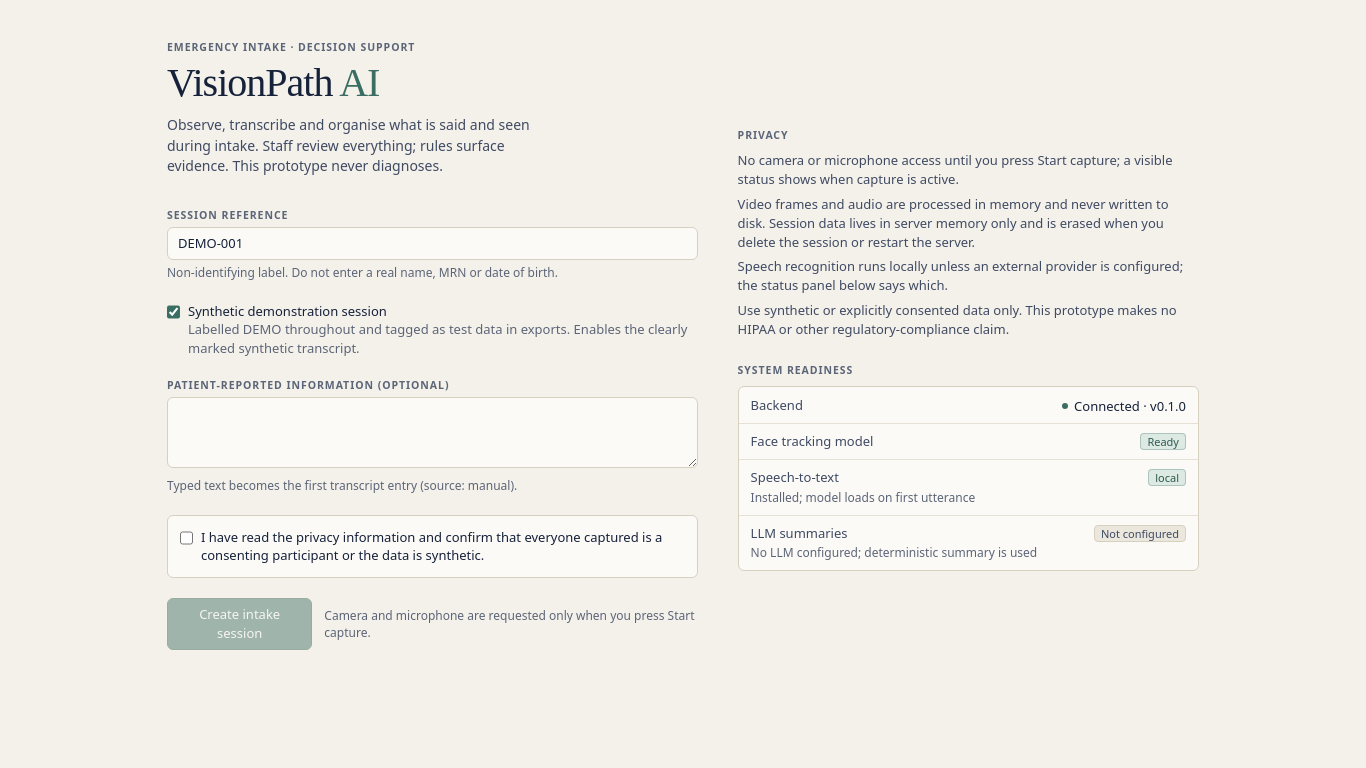
initial rendering & setup › surfaces server validation errors on creation
The width and height of the screenshot is (1366, 768).
Expected: the text "Connected · v0.1.0" is shown, [1062,397,1186,415]
Click the checkbox labelled "I have read the privacy information".
click(186, 538)  # box [180,530,193,546]
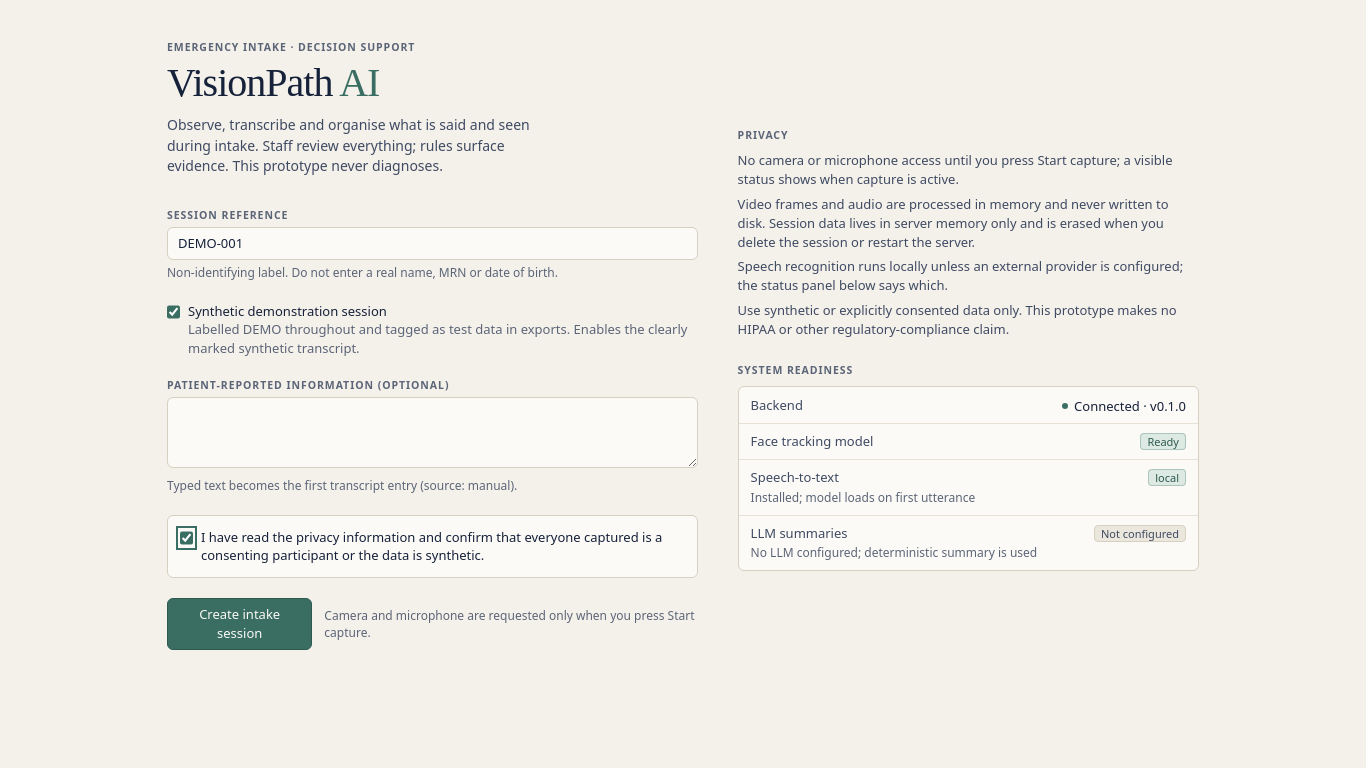
Click the button "Create intake session".
click(240, 624)  # box [167,598,312,650]
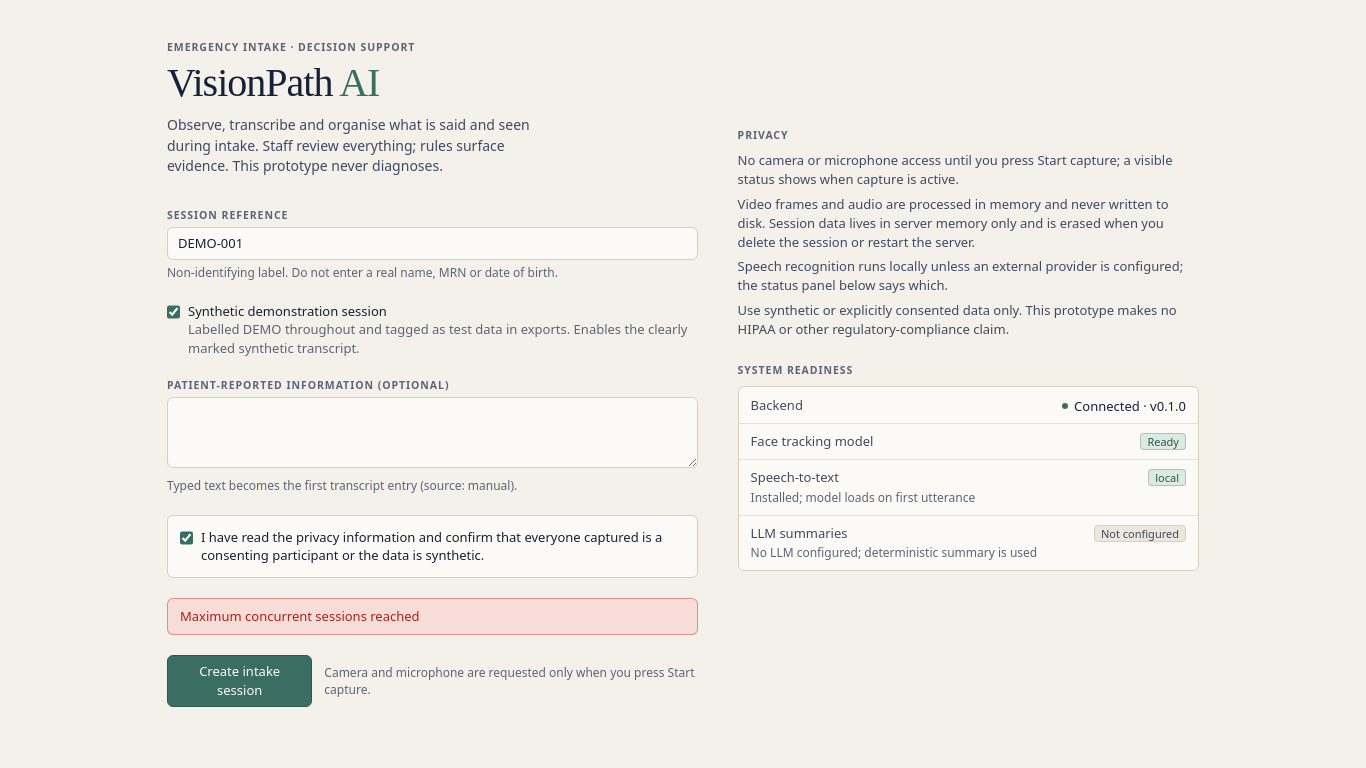
Now the message shows "Maximum concurrent sessions", box [180,607,420,625]
